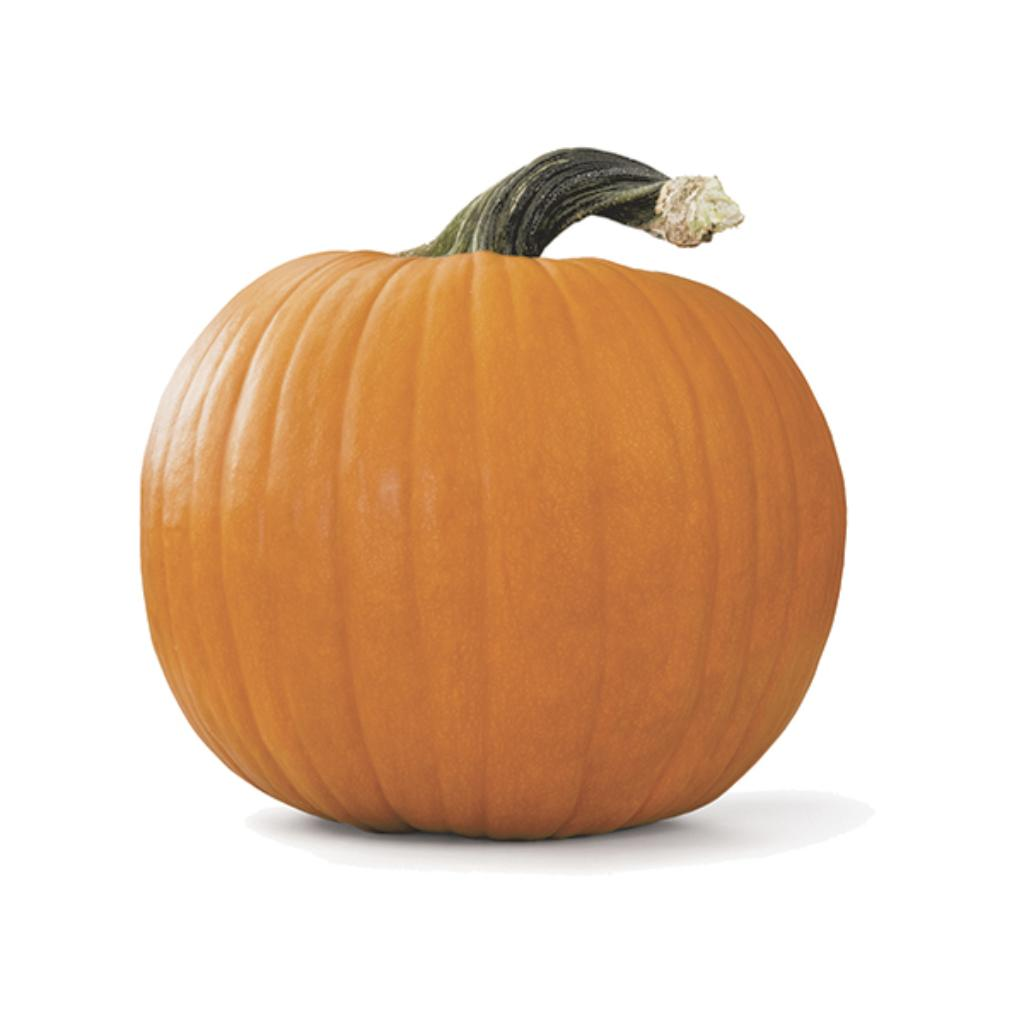pumpkin: (142, 146, 846, 837)
